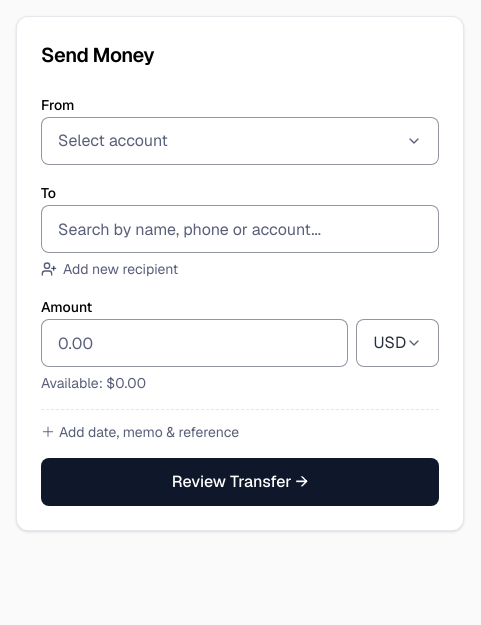
Test: TransferForm › shows validation errors when submitting empty form
Click the button "Review Transfer →". click: (240, 482)
box: [41,458,439,506]
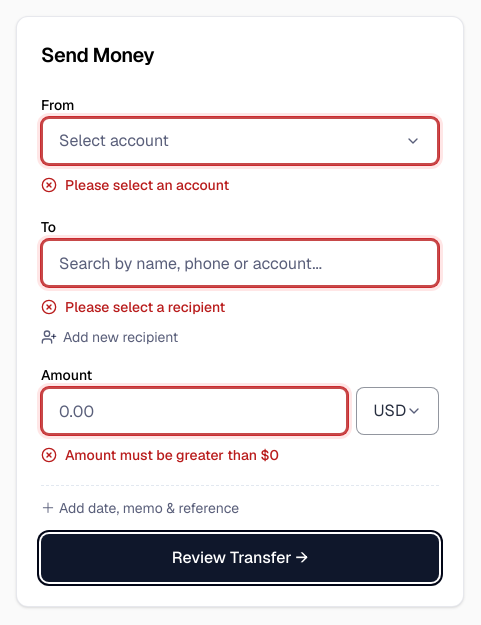
Now the text "Please select an account" is shown, box [65,175,229,195]
